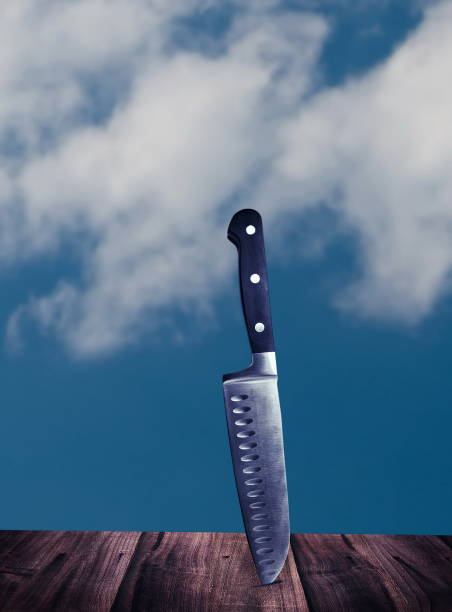knife: (217, 204, 294, 587)
